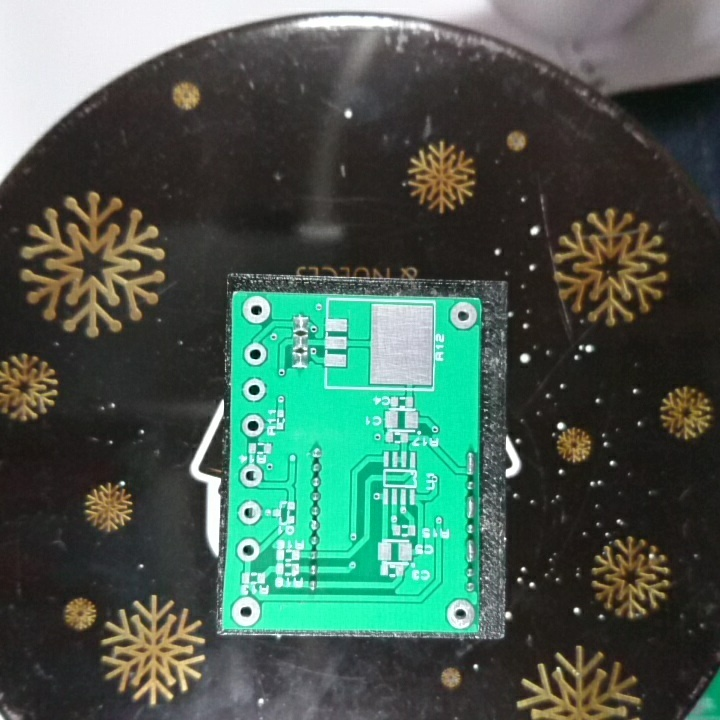F: (229, 596, 265, 629), (238, 293, 274, 325), (444, 598, 479, 630), (446, 301, 480, 332), (236, 498, 265, 527), (241, 339, 269, 368), (240, 375, 269, 403), (237, 461, 265, 489), (239, 413, 268, 439), (235, 538, 262, 563)
P: (463, 448, 477, 477), (464, 493, 477, 523), (464, 537, 477, 564)
